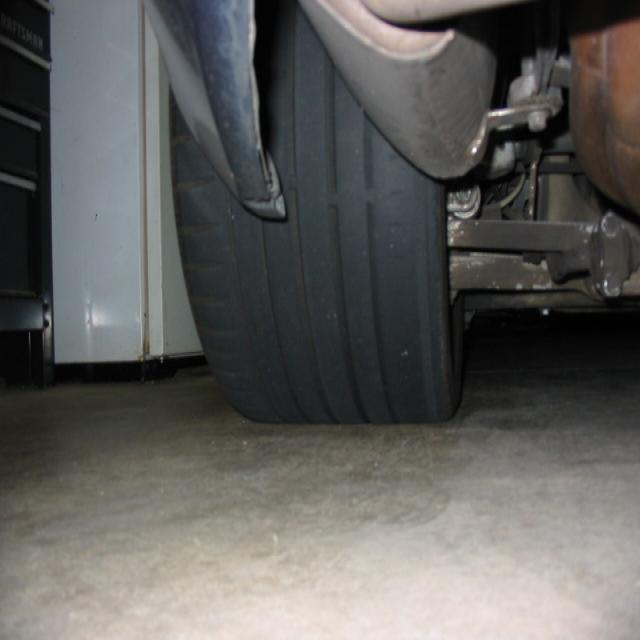Flat spots: (287, 184, 436, 428)
